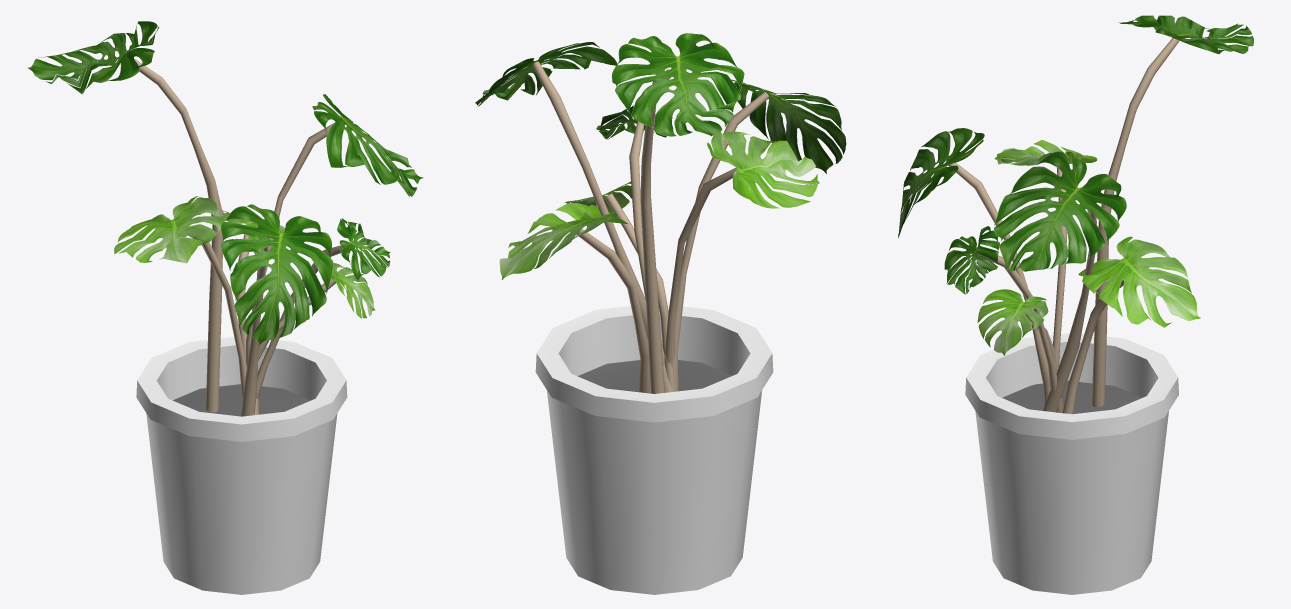
Rendered from Monsterra Plant.fbx.
3 views of the same model, side by side, from view 1: azimuth 30°, elevation 25°; view 2: azimuth 150°, elevation 25°; view 3: azimuth 270°, elevation 25° (orthographic). The views are drawn at different scales.
Visible parts, largest first — view 1: Potted_Plant1_Pot; view 2: Potted_Plant1_Pot; view 3: Potted_Plant1_Pot.
Part boxes in pixels (box(x1,y1,x2,y2)): Potted_Plant1_Pot: box(27, 21, 423, 594); Potted_Plant1_Pot: box(475, 33, 846, 594); Potted_Plant1_Pot: box(898, 15, 1254, 594).
Size of the model in its own units: 44 by 67.75 by 44.13.
